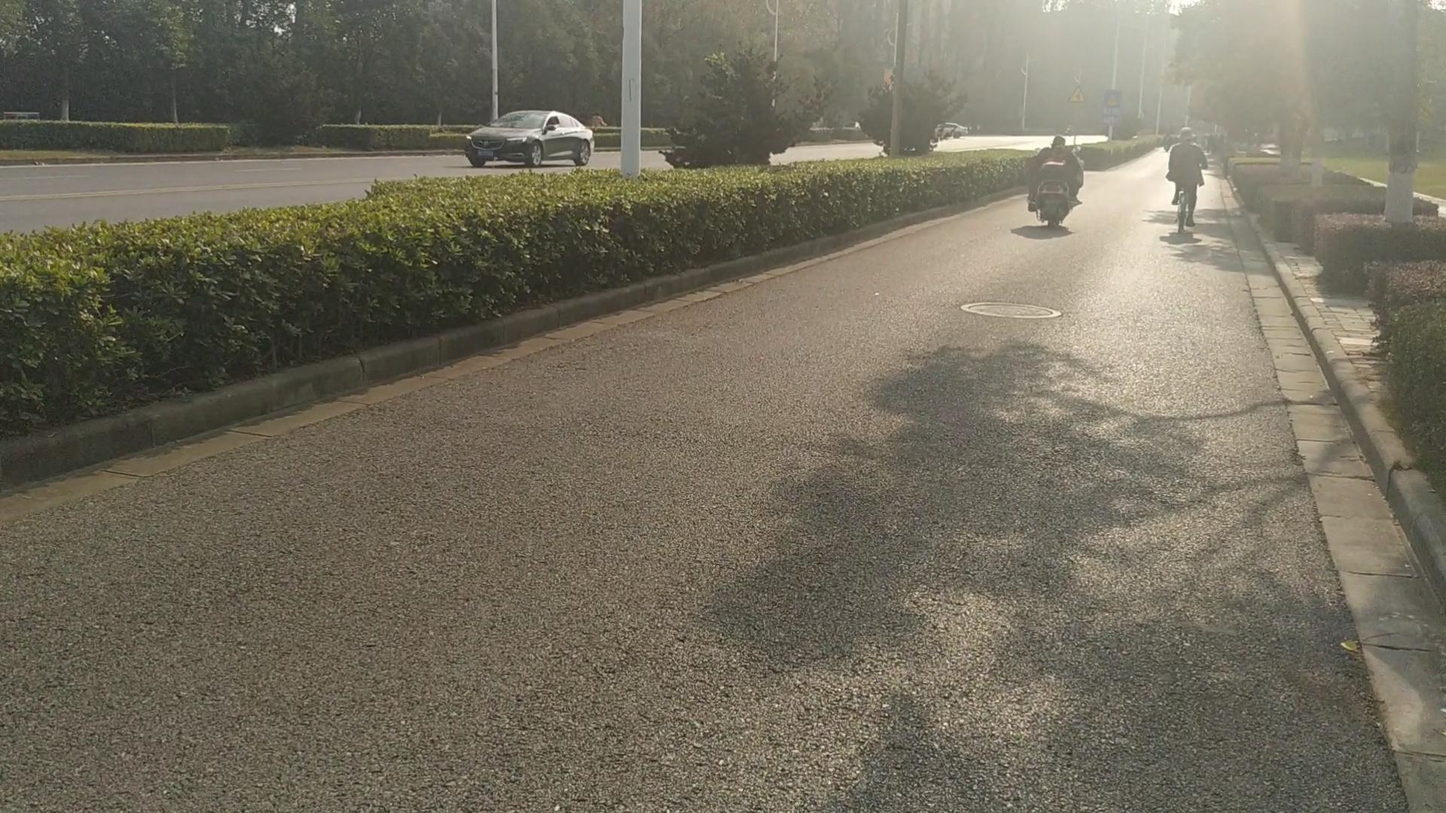car: (464, 109, 593, 169), (932, 122, 972, 144), (1258, 141, 1280, 157)
